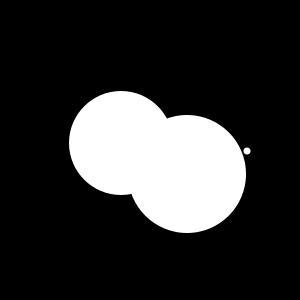rectangle: (128, 115, 246, 233), (69, 91, 173, 195), (244, 148, 251, 154)
